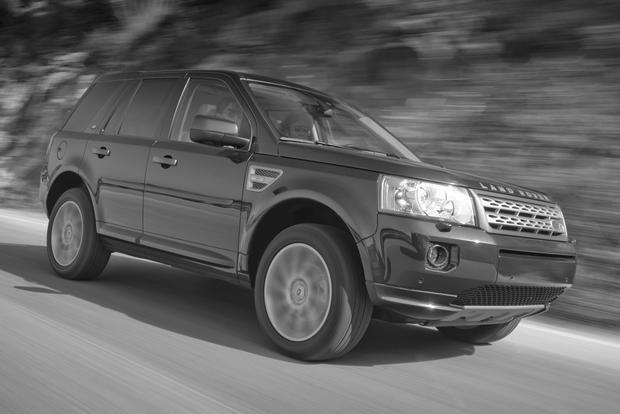car: (39, 70, 577, 364)
